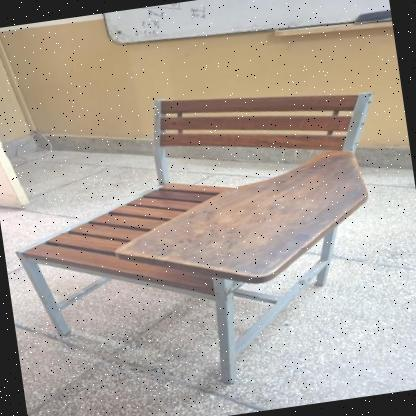chair: (0, 60, 410, 411)
